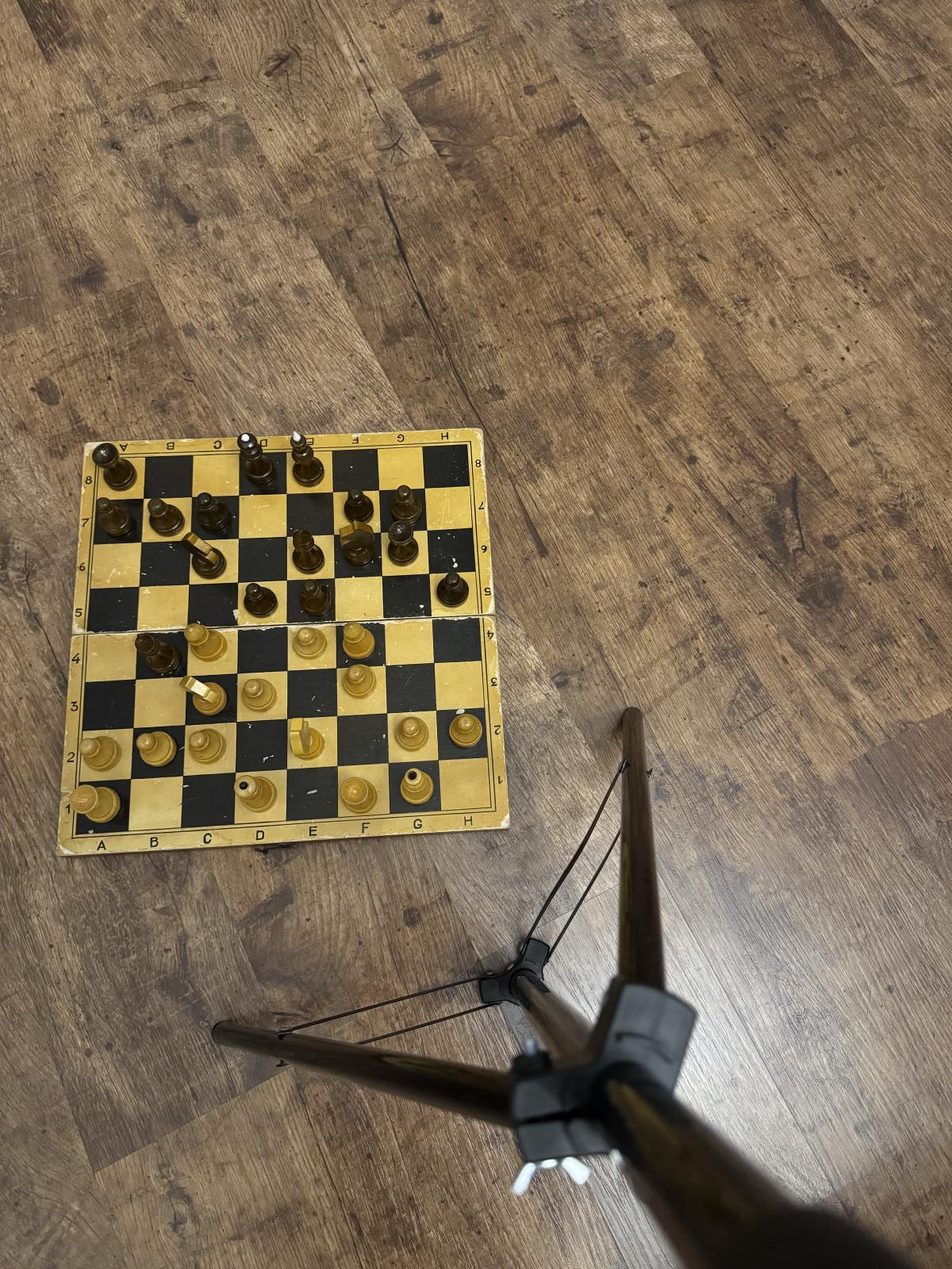Chess-Board: (76, 444, 491, 834)
